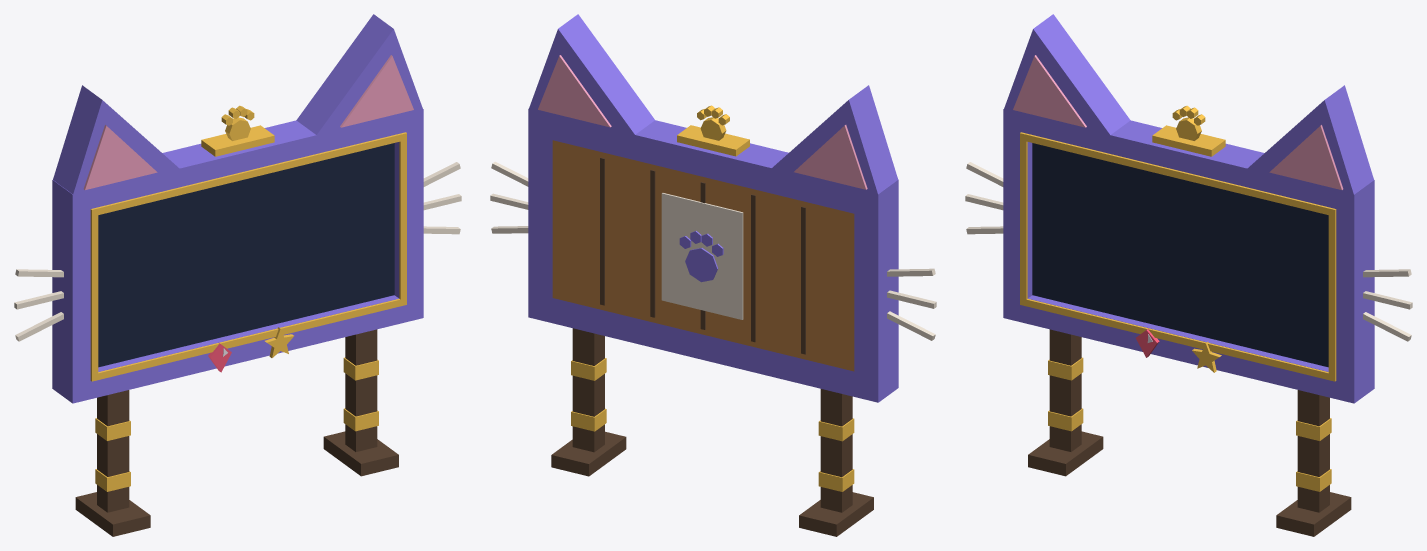
The model's file is CatCafe_Square_PitySign.glb.
The picture shows the model from 3 angles, left to right: view 1: azimuth 30°, elevation 25°; view 2: azimuth 150°, elevation 25°; view 3: azimuth 330°, elevation 25°; orthographic projection.
Parts seen in each view (by area): view 1: CatCafe_Square_PitySign, CatCafe_Square_PitySign_Screen; view 2: CatCafe_Square_PitySign; view 3: CatCafe_Square_PitySign, CatCafe_Square_PitySign_Screen.
Boxes of the visible parts, x1,y1,x2,y2 form: CatCafe_Square_PitySign: (14,14,461,536); CatCafe_Square_PitySign_Screen: (98,143,394,367); CatCafe_Square_PitySign: (490,14,936,536); CatCafe_Square_PitySign: (965,14,1412,536); CatCafe_Square_PitySign_Screen: (1032,143,1328,367).
Bounding box in the file's own units: 8.24 × 7.65 × 1.2.
1 material, 1 textured.
